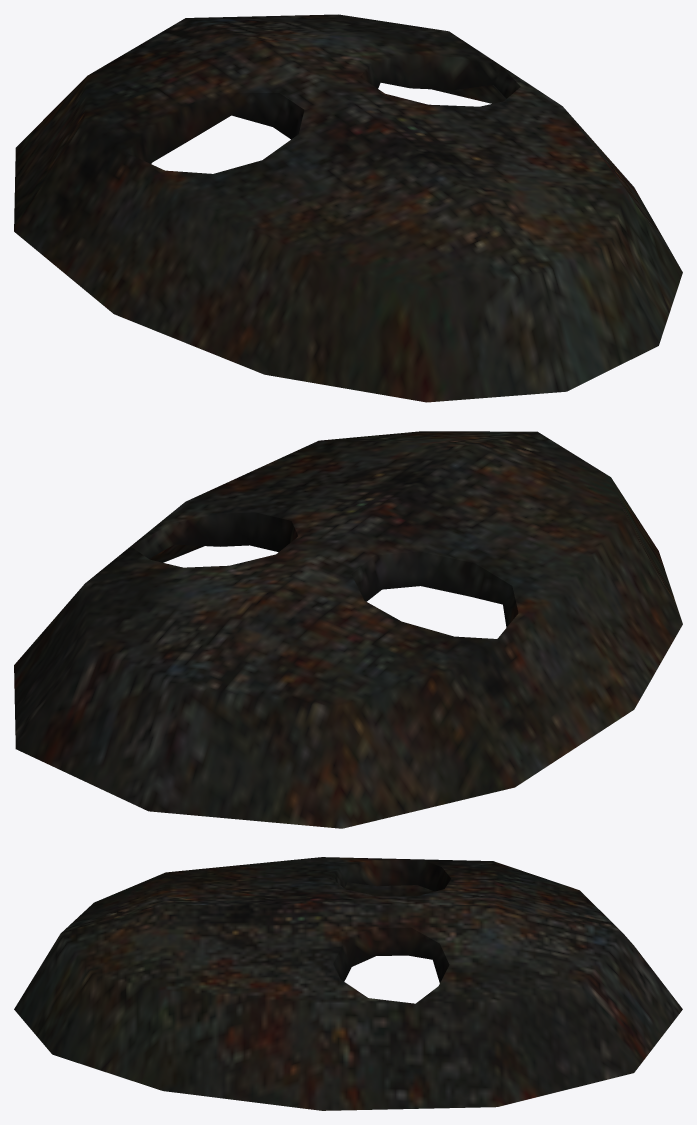
File: mask_mx_4.obj
The picture shows the model from 3 angles, top to bottom: view 1: azimuth 30°, elevation 25°; view 2: azimuth 150°, elevation 25°; view 3: azimuth 270°, elevation 25°; orthographic projection. The views are drawn at different scales.
Parts seen in each view (by area): view 1: mask_mx_4; view 2: mask_mx_4; view 3: mask_mx_4.
Boxes of the visible parts, bbox=[...] form: mask_mx_4: bbox=[14, 14, 682, 402]; mask_mx_4: bbox=[14, 431, 682, 828]; mask_mx_4: bbox=[14, 857, 682, 1110].
Size of the model in its own units: 0.2297 by 0.0554 by 0.3198.
